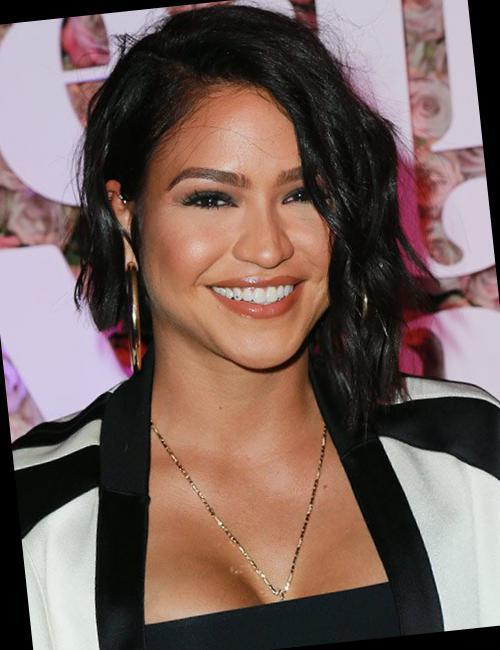Sober: (145, 90, 333, 376)
